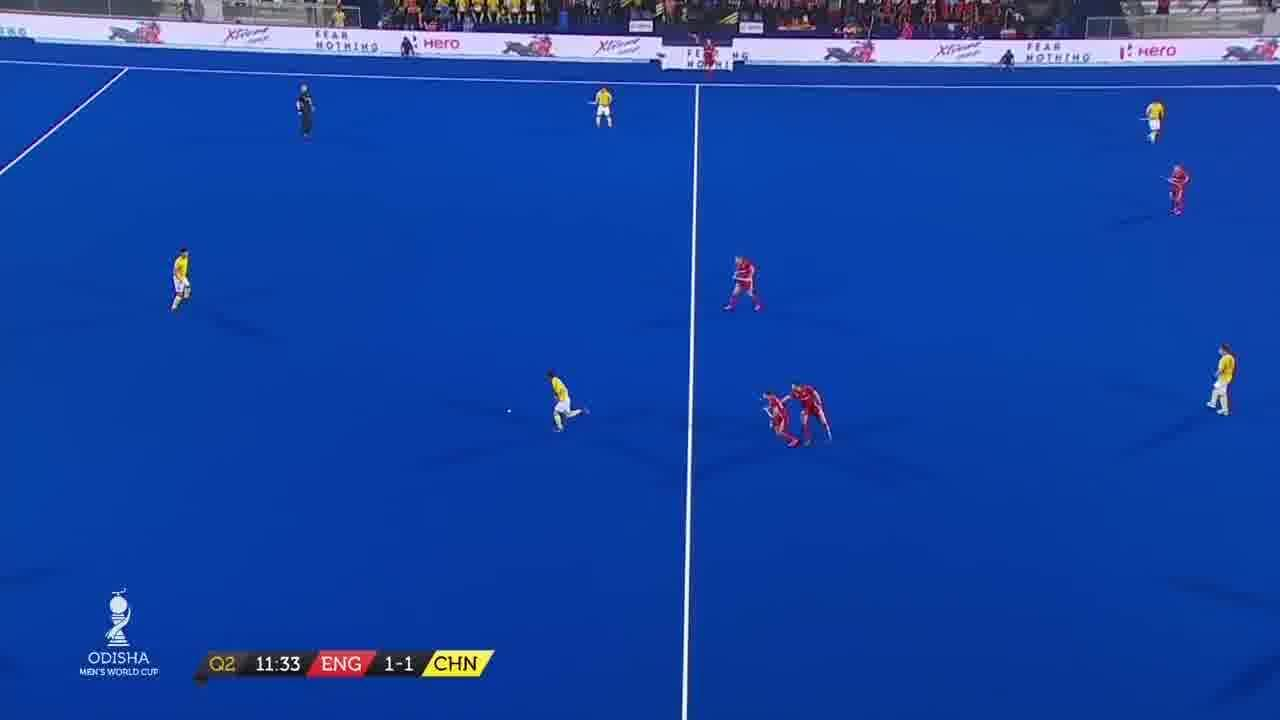ball: (506, 406, 515, 418)
